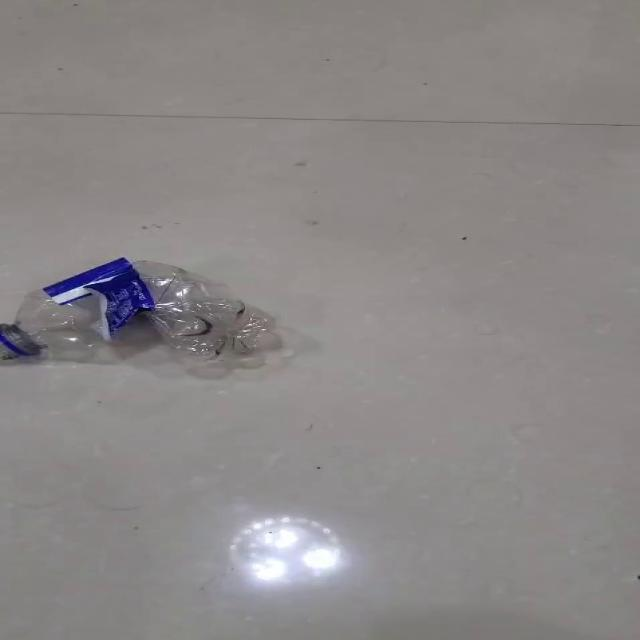plastic: (3, 257, 285, 371)
